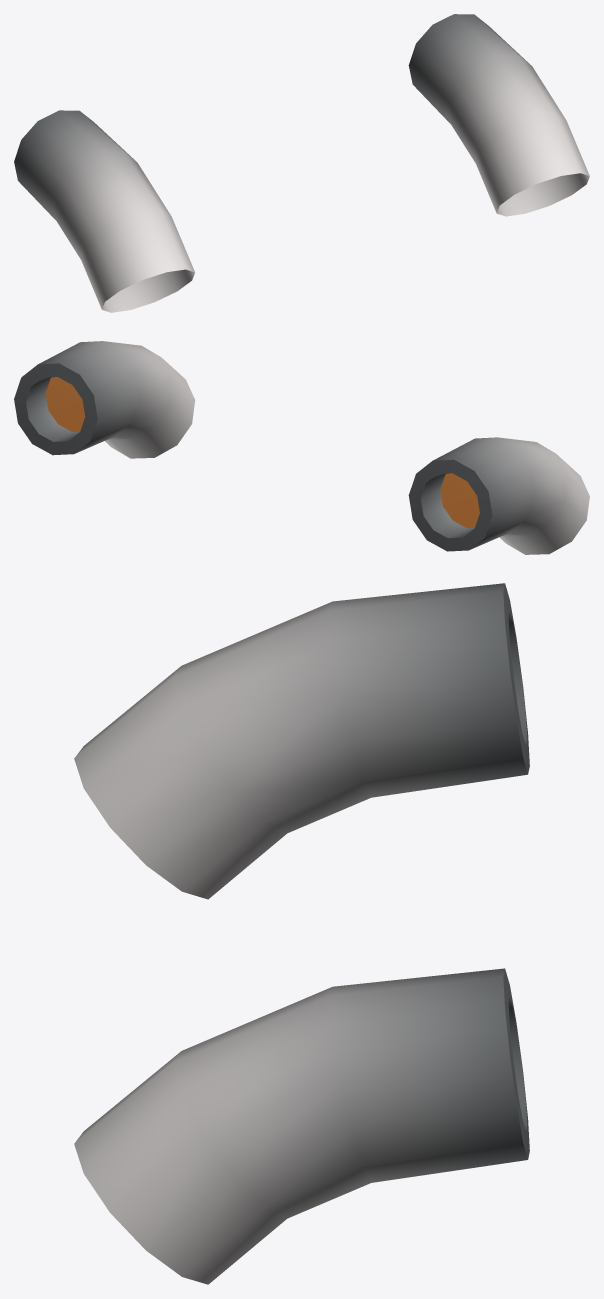
The model's file is Car_13_Pipe_Simple.fbx.
The picture shows the model from 3 angles, top to bottom: view 1: azimuth 30°, elevation 25°; view 2: azimuth 150°, elevation 25°; view 3: azimuth 270°, elevation 25°; orthographic projection. The views are drawn at different scales.
Visible parts, largest first — view 1: Car_13_Pipe_Simple; view 2: Car_13_Pipe_Simple; view 3: Car_13_Pipe_Simple.
Part boxes in pixels (left/top/right/bottom): Car_13_Pipe_Simple: left=14, top=14, right=589, bottom=312; Car_13_Pipe_Simple: left=14, top=341, right=589, bottom=554; Car_13_Pipe_Simple: left=74, top=583, right=529, bottom=1284.
Size of the model in its own units: 109 by 44.79 by 31.98.
